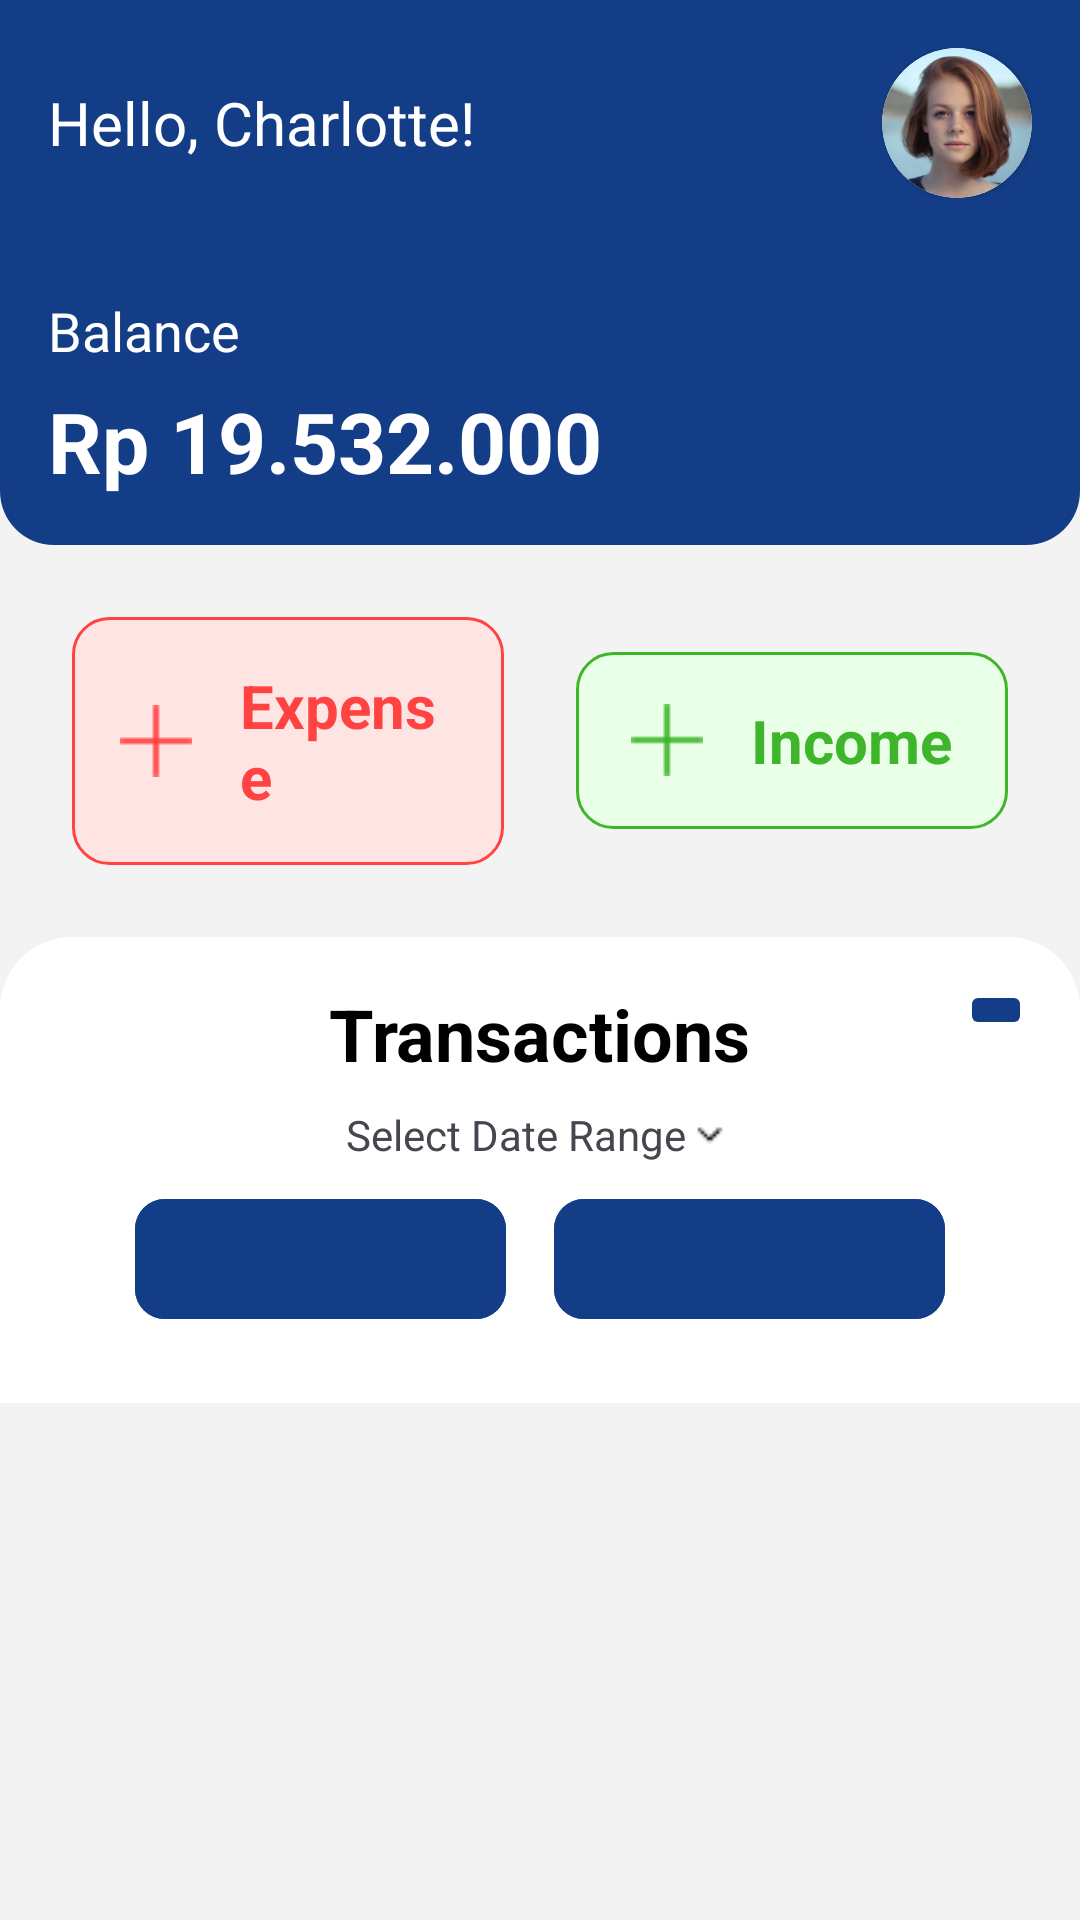

Where icons sit on this 1080 x 1920 app screen, as (x1, y1, x2, y2):
plus: (631, 704, 703, 776), (120, 705, 192, 777)
